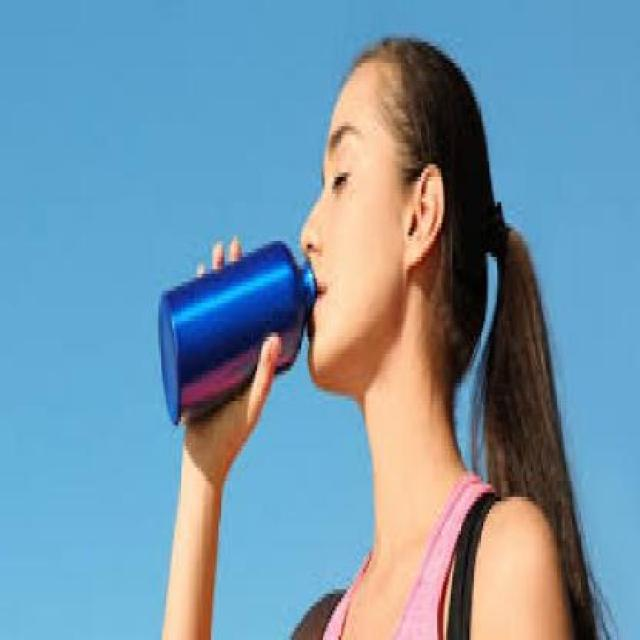Drinking: (161, 240, 321, 405)
